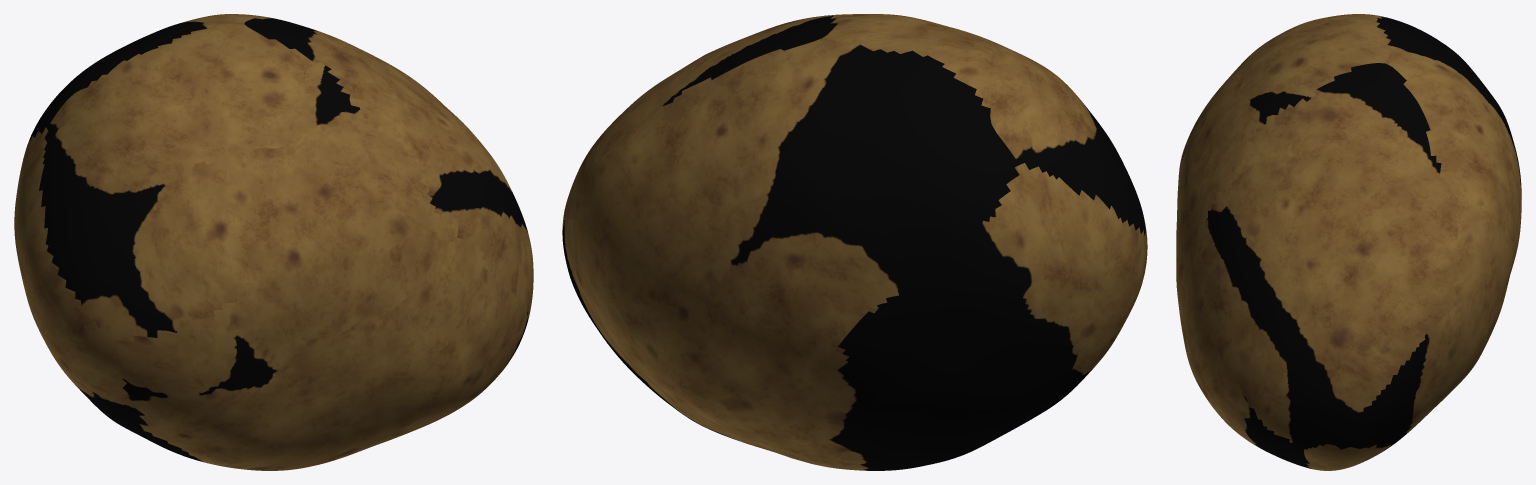
3 views of the same model, side by side, from view 1: azimuth 30°, elevation 25°; view 2: azimuth 150°, elevation 25°; view 3: azimuth 270°, elevation 25° (orthographic). The views are drawn at different scales.
Parts seen in each view (by area): view 1: original_ico.008; view 2: original_ico.008; view 3: original_ico.008.
Boxes of the visible parts, x1=… form: original_ico.008: x1=14, y1=14, x2=533, y2=470; original_ico.008: x1=562, y1=14, x2=1147, y2=470; original_ico.008: x1=1176, y1=14, x2=1521, y2=470.
Bounding box in the file's own units: 3.73 × 3 × 2.6.
